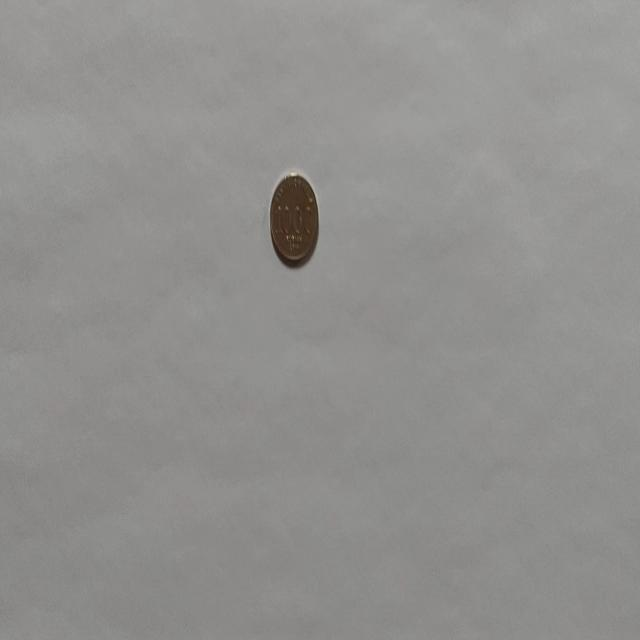seribu rupiah koin: (268, 170, 319, 266)
